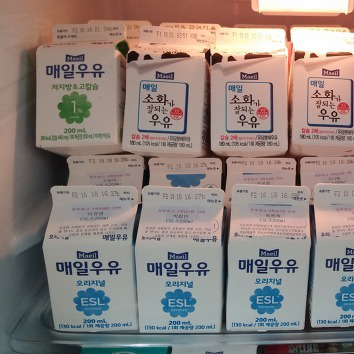milk: (33, 17, 354, 330)
